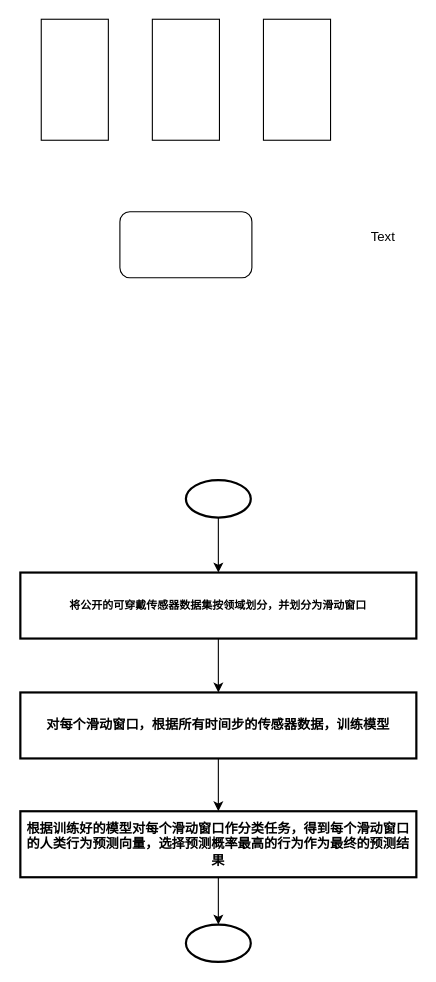
Some shapes in this 436 by 982 pixel diagram are drawn without their labels. The centre of each missing label's shape, as x and y in pixels:
"开始" belongs at point (217, 498).
"结束" belongs at point (217, 943).
